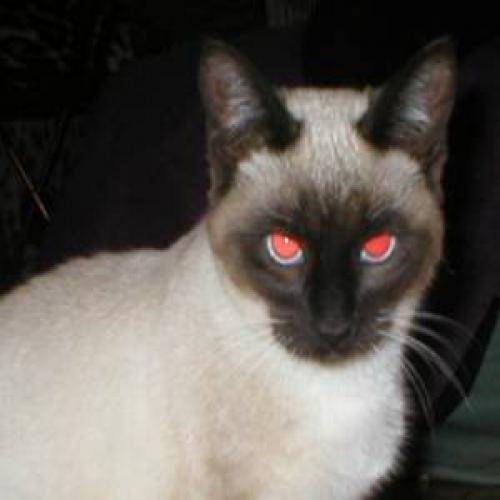siamese: (167, 14, 478, 394)
